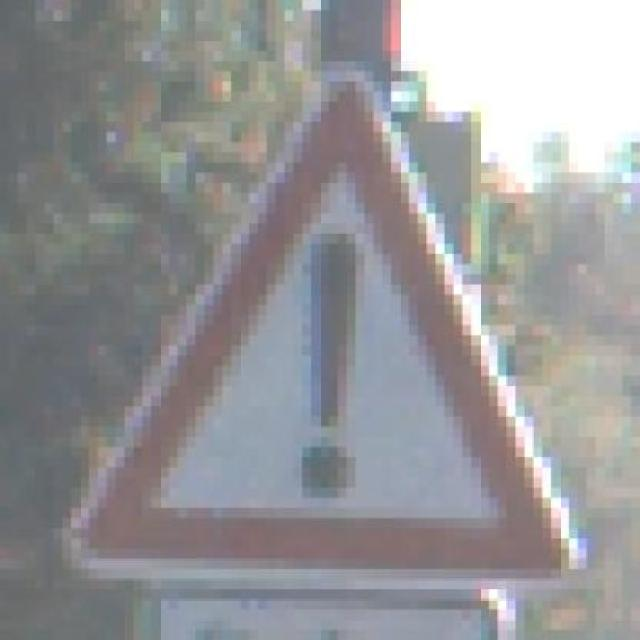Attention Please-: (44, 71, 596, 620)
